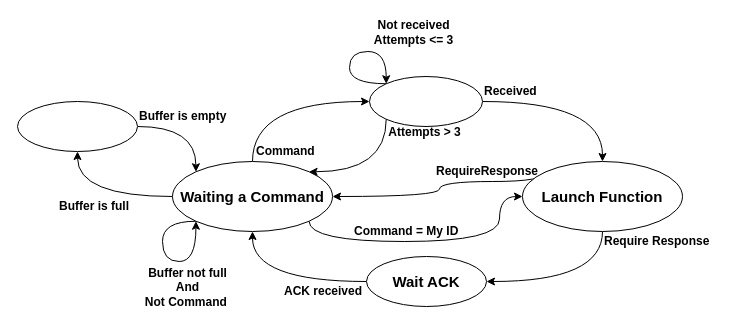
This 740x325 diagram has some shape labels left out. The shapes that lost their labels are listed below. From the top down, each one's box as (x1, y1, x2, y2) in pixels, then its label:
(368, 76, 482, 126): Sending ACK
(16, 100, 138, 152): Clear buffer
